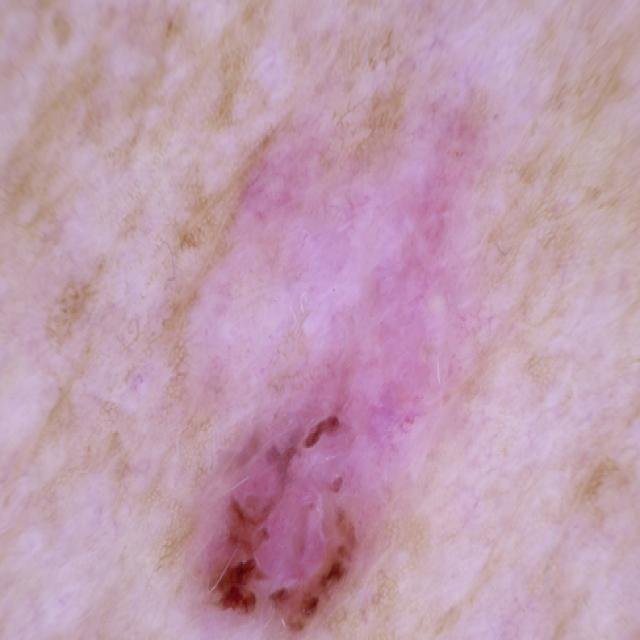Carcinoma: (136, 269, 552, 640)
